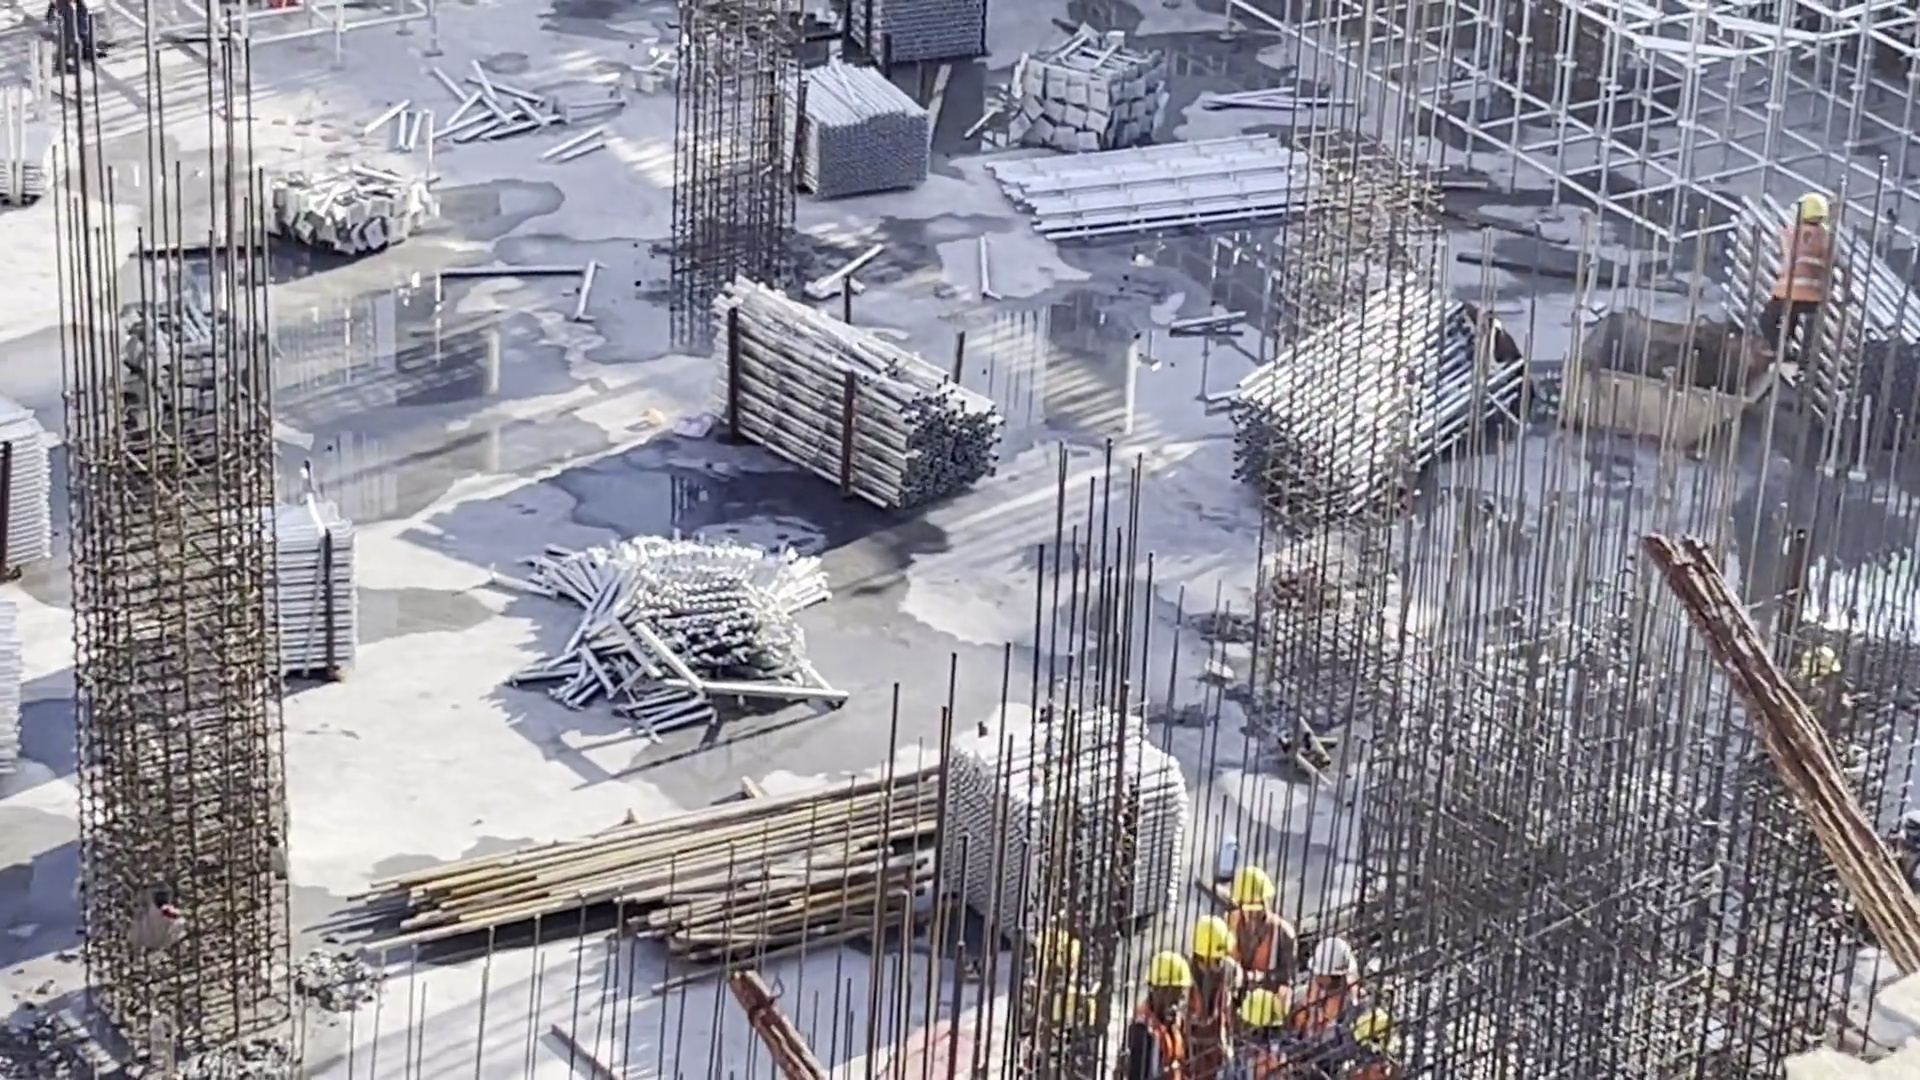helmet: (1141, 954, 1188, 989), (1240, 997, 1282, 1029), (1314, 941, 1351, 974), (1198, 919, 1230, 955), (1235, 865, 1266, 903), (1355, 1012, 1387, 1045), (1801, 192, 1830, 221)
hopper: (1557, 332, 1752, 445)
person: (1755, 189, 1839, 409), (1175, 908, 1239, 1080), (1275, 938, 1361, 1064), (1116, 953, 1194, 1080), (1215, 866, 1292, 979), (1221, 986, 1295, 1080)
scaffold: (1220, 272, 1484, 492), (717, 292, 972, 501), (570, 546, 819, 719), (1749, 225, 1920, 467), (951, 724, 1161, 914), (992, 147, 1319, 226), (228, 513, 372, 664), (772, 71, 935, 187), (1, 448, 83, 581), (872, 1, 989, 79), (1, 123, 56, 197)
vest: (1780, 229, 1823, 313), (1233, 930, 1286, 978), (1293, 985, 1344, 1033), (1198, 980, 1232, 1047), (1130, 1012, 1175, 1063), (1233, 1046, 1273, 1080)
